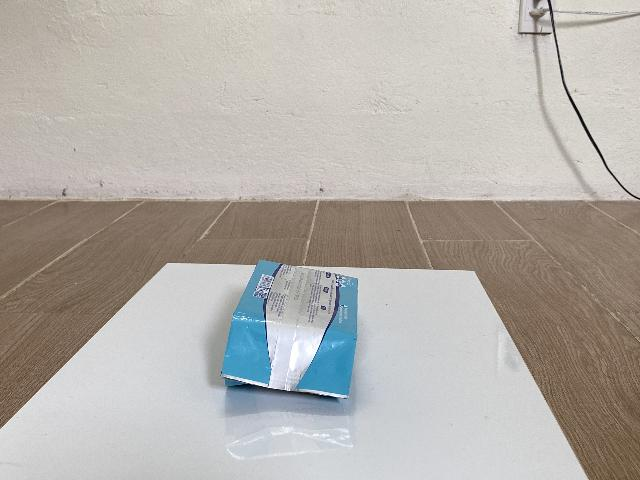Let-green_alcohol_wipes: (220, 260, 358, 400)
